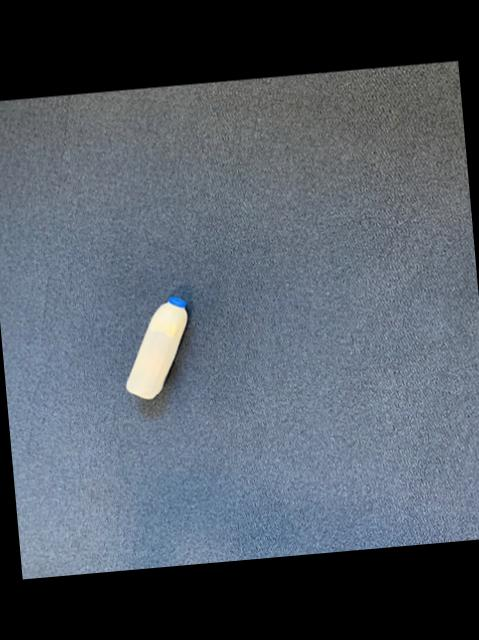plastic: (123, 295, 183, 397)
